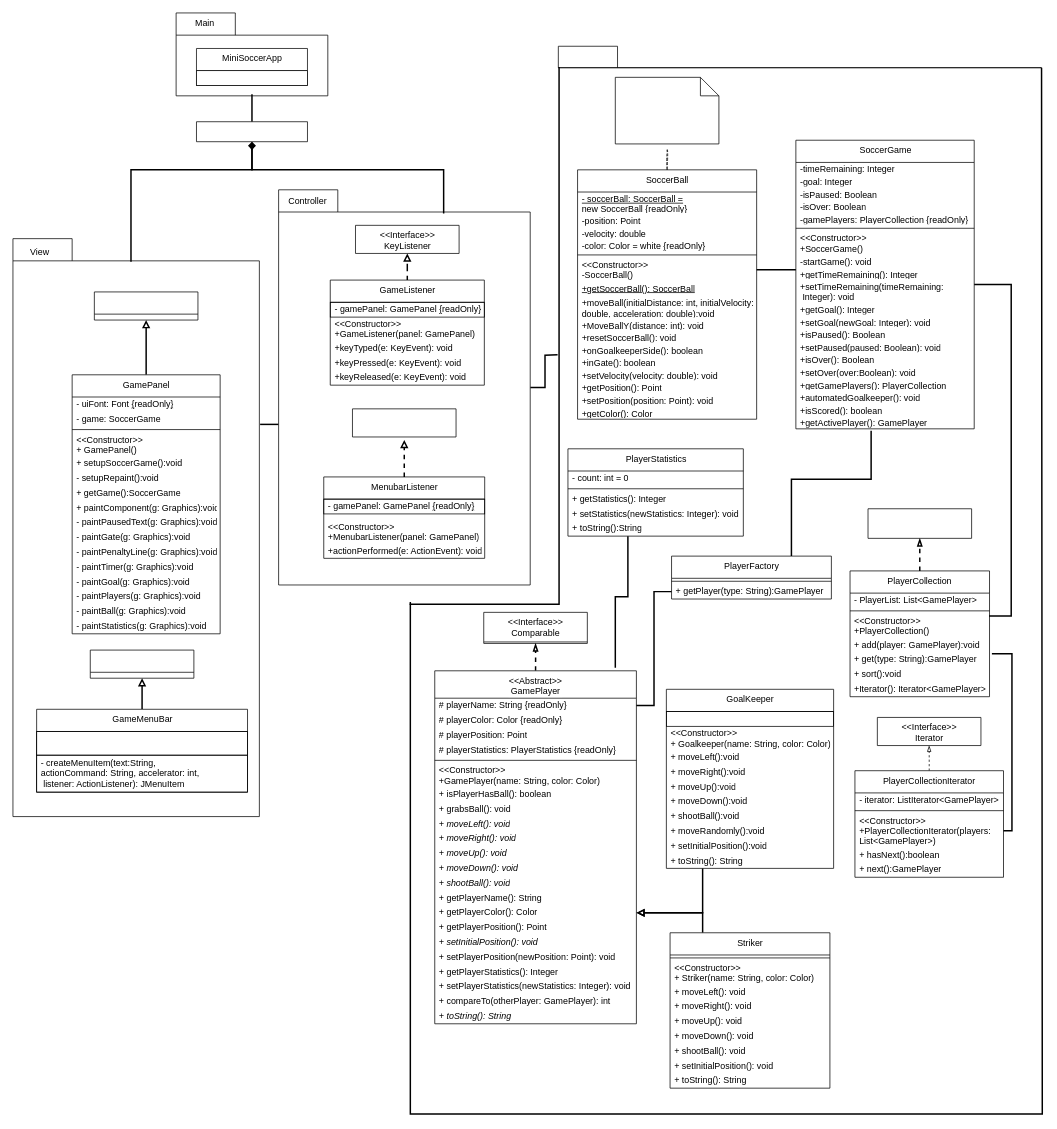
This 1057x1129 diagram has some shape labels left out. The centre of each missing label's shape, as x and y in pixels:
"+main(args :String[]): void" belongs at (251,77).
"- movementStep: int" belongs at (750,718).
"<<Constructor>> +GameMenuBar(menubarListener: ActionListener)" belongs at (142,743).
"<<Interface>> ActionListener" belongs at (404,422).
"<<Interface>> Iterable" belongs at (919,523).
"JFrame" belongs at (251,131).
"JMenuBar" belongs at (142,663).
"JPanel" belongs at (146,305).
"Model" belongs at (800,57).
"This class is a Singleton: it allows creating a uniqueInstance of itself" belongs at (667,110).
